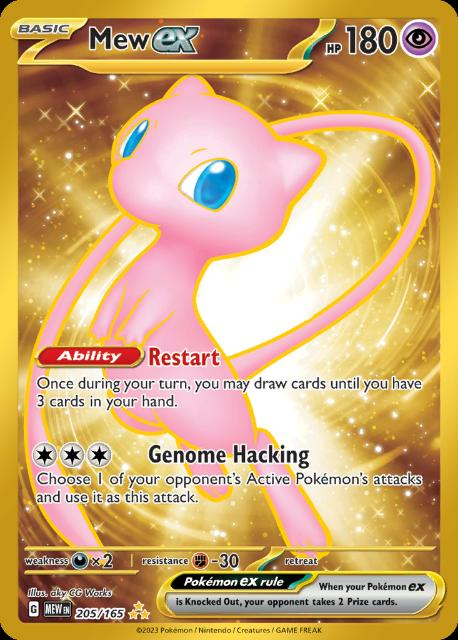Card: (0, 0, 458, 640)
Name: (67, 22, 250, 60)
